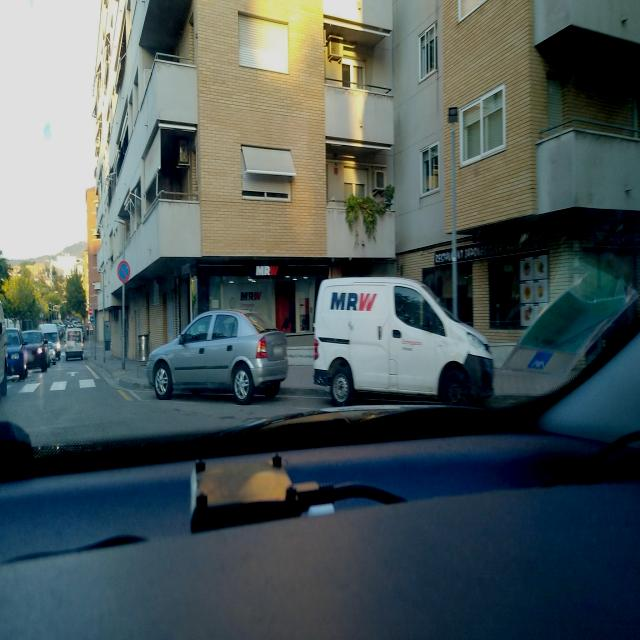car: (312, 274, 496, 408), (146, 307, 289, 405), (5, 327, 28, 380), (22, 330, 50, 373), (41, 327, 61, 360), (65, 330, 84, 361), (42, 338, 56, 364)
